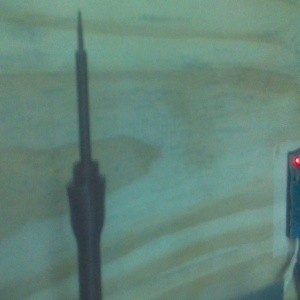solder: (65, 6, 107, 300)
